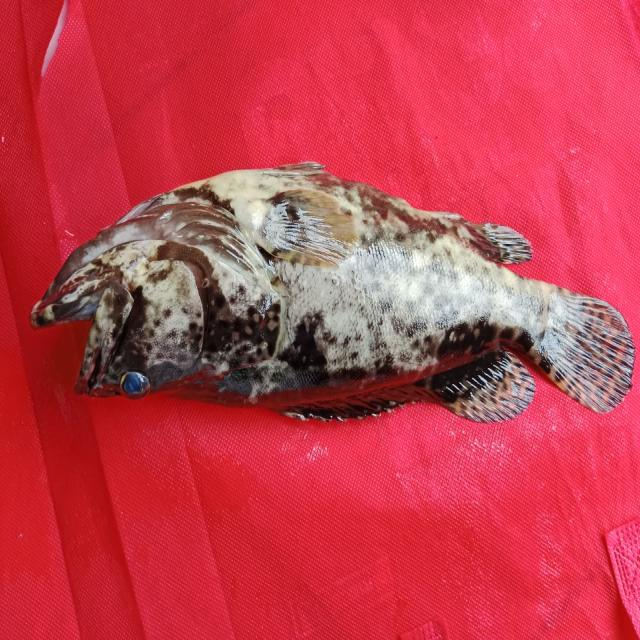ikan: (25, 142, 636, 458)
